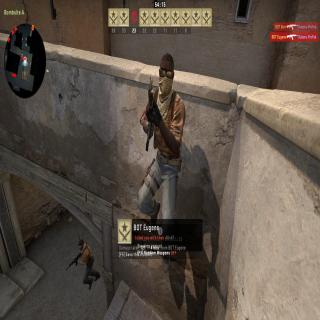T-Body: (137, 49, 190, 314), (75, 237, 99, 290)
T-Head: (158, 53, 175, 95), (78, 237, 84, 250)
